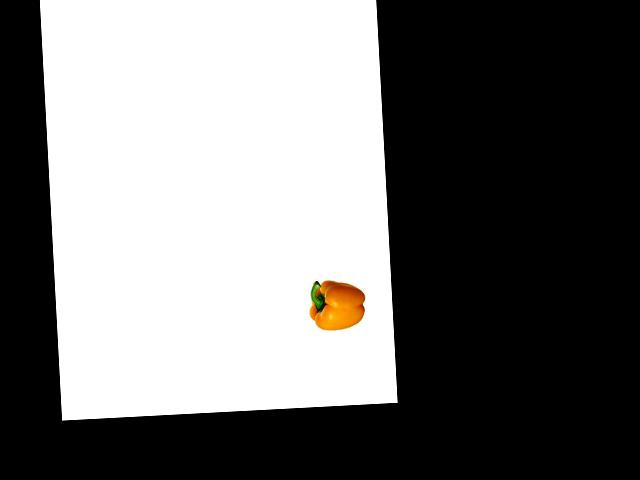bell_pepper: (302, 272, 369, 336)
